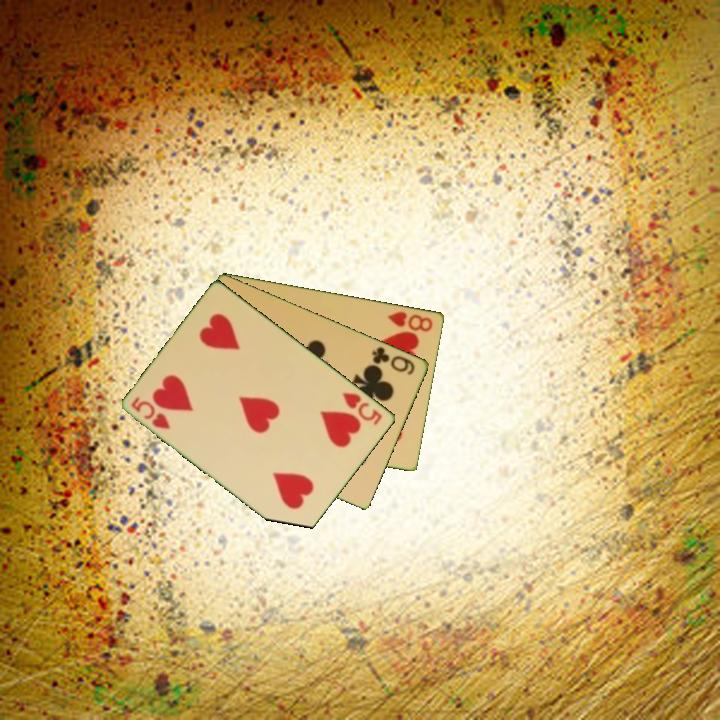5h: (339, 388, 386, 428), (128, 393, 174, 432)
6c: (369, 343, 418, 378)
8h: (384, 308, 436, 334)
